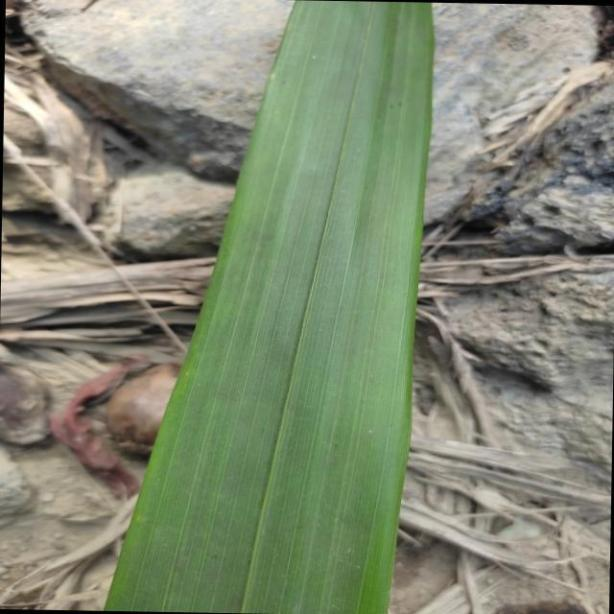Healthy: (107, 5, 435, 614)
